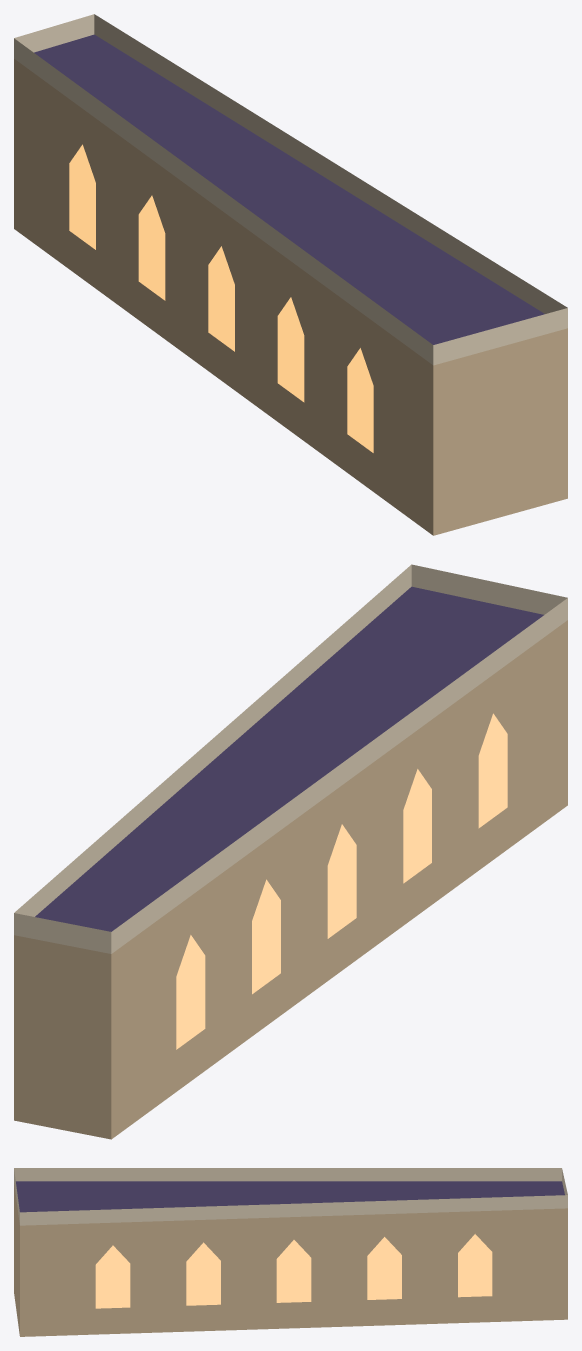
3 views of the same model, one above another, from view 1: azimuth 30°, elevation 25°; view 2: azimuth 150°, elevation 25°; view 3: azimuth 270°, elevation 25° (orthographic). The views are drawn at different scales.
Parts seen in each view (by area): view 1: campus/b-136-0; view 2: campus/b-136-0; view 3: campus/b-136-0.
Part boxes in pixels (bbox=[...]): campus/b-136-0: bbox=[14, 14, 567, 535]; campus/b-136-0: bbox=[14, 564, 567, 1139]; campus/b-136-0: bbox=[14, 1168, 567, 1336].
Bounding box in the file's own units: 3.99 × 5.15 × 20.75.
